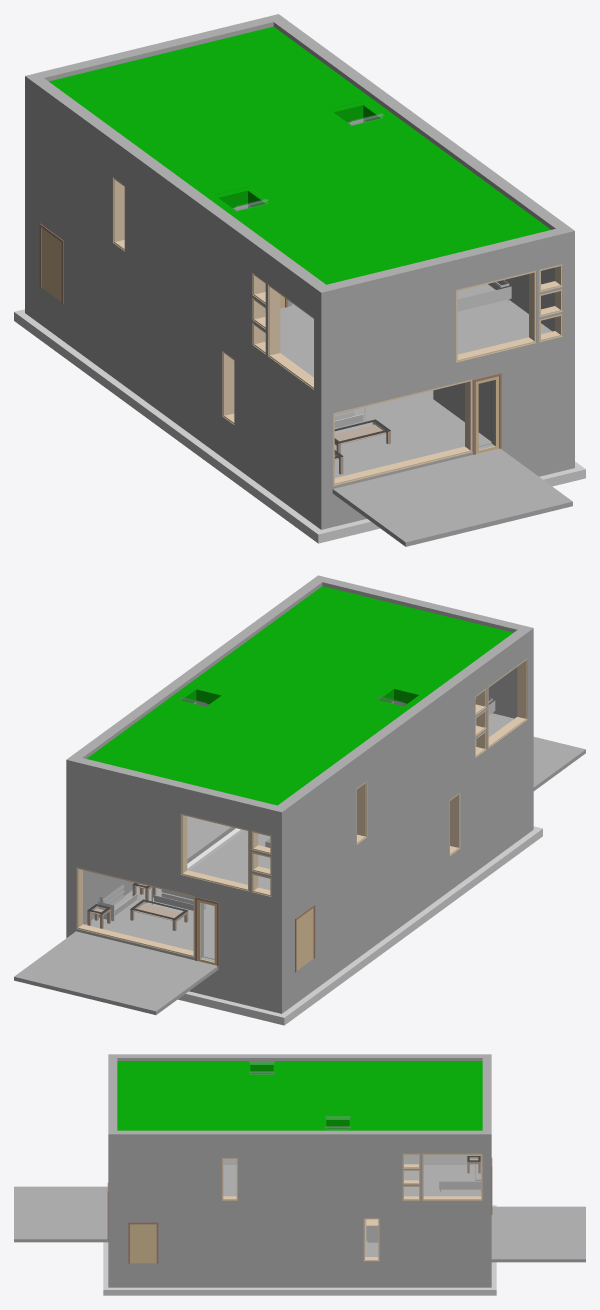
Rendered from duplex.gltf.
3 renders of one model, top to bottom at view 1: azimuth 30°, elevation 25°; view 2: azimuth 150°, elevation 25°; view 3: azimuth 270°, elevation 25°, orthographic. The views are drawn at different scales.
Visible parts, largest first — view 1: 3ThA22djr8AQQ9eQMA5s7I, 2O2Fr$t4X7Zf8NOew3FNhv, 2O2Fr$t4X7Zf8NOew3FLPP, 2O2Fr$t4X7Zf8NOew3FLOH, 1CZILmCaHETO8tf3SgGEXu, 2O2Fr$t4X7Zf8NOew3FNr2, 2O2Fr$t4X7Zf8NOew3FKE5, 0jf0rYHfX3RAB3bSIRjmr1, 2OBrcmyk58NupXoVOHUtxr, 0jf0rYHfX3RAB3bSIRjmoa, 0jf0rYHfX3RAB3bSIRjmpw, 0kF45Qs8L9PAM9kmb1lT5t (+17 smaller); view 2: 3ThA22djr8AQQ9eQMA5s7I, 2O2Fr$t4X7Zf8NOew3FNhv, 2O2Fr$t4X7Zf8NOew3FLPP, 2O2Fr$t4X7Zf8NOew3FLQD, 1CZILmCaHETO8tf3SgGEWh, 2O2Fr$t4X7Zf8NOew3FNtn, 2O2Fr$t4X7Zf8NOew3FKE5, 0jf0rYHfX3RAB3bSIRjmr1, 0jf0rYHfX3RAB3bSIRjmmy, 0kF45Qs8L9PAM9kmb1lT5t, 0jf0rYHfX3RAB3bSIRjmpw, 2OBrcmyk58NupXoVOHUtgP (+17 smaller); view 3: 3ThA22djr8AQQ9eQMA5s7I, 2O2Fr$t4X7Zf8NOew3FNqI, 2O2Fr$t4X7Zf8NOew3FLR9, 2O2Fr$t4X7Zf8NOew3FK9N, 0jf0rYHfX3RAB3bSIRjmpw, 1CZILmCaHETO8tf3SgGEWh, 1CZILmCaHETO8tf3SgGEXu, 0kF45Qs8L9PAM9kmb1lT5d, 0jf0rYHfX3RAB3bSIRjmr1, 2OBrcmyk58NupXoVOHUtDX, 1hOSvn6df7F8_7GcBWlRGQ, 0jf0rYHfX3RAB3bSIRjmmy (+6 smaller).
Boxes of the visible parts, left/top/right/bottom form: 3ThA22djr8AQQ9eQMA5s7I: left=49, top=26, right=550, bottom=284; 2O2Fr$t4X7Zf8NOew3FNhv: left=32, top=187, right=314, bottom=486; 2O2Fr$t4X7Zf8NOew3FLPP: left=25, top=94, right=321, bottom=398; 2O2Fr$t4X7Zf8NOew3FLOH: left=321, top=249, right=574, bottom=398; 1CZILmCaHETO8tf3SgGEXu: left=332, top=448, right=572, bottom=546; 2O2Fr$t4X7Zf8NOew3FNr2: left=314, top=340, right=562, bottom=491; 2O2Fr$t4X7Zf8NOew3FKE5: left=32, top=281, right=314, bottom=524; 0jf0rYHfX3RAB3bSIRjmr1: left=32, top=78, right=325, bottom=305; 2OBrcmyk58NupXoVOHUtxr: left=334, top=390, right=491, bottom=477; 0jf0rYHfX3RAB3bSIRjmoa: left=314, top=229, right=562, bottom=310; 0jf0rYHfX3RAB3bSIRjmpw: left=273, top=19, right=574, bottom=251; 0kF45Qs8L9PAM9kmb1lT5t: left=14, top=309, right=309, bottom=532; 3ThA22djr8AQQ9eQMA5s7I: left=86, top=586, right=513, bottom=805; 2O2Fr$t4X7Zf8NOew3FNhv: left=287, top=722, right=527, bottom=977; 2O2Fr$t4X7Zf8NOew3FLPP: left=282, top=644, right=533, bottom=901; 2O2Fr$t4X7Zf8NOew3FLQD: left=66, top=775, right=281, bottom=902; 1CZILmCaHETO8tf3SgGEWh: left=14, top=931, right=218, bottom=1014; 2O2Fr$t4X7Zf8NOew3FNtn: left=66, top=850, right=287, bottom=981; 2O2Fr$t4X7Zf8NOew3FKE5: left=287, top=802, right=527, bottom=1009; 0jf0rYHfX3RAB3bSIRjmr1: left=278, top=630, right=527, bottom=823; 0jf0rYHfX3RAB3bSIRjmmy: left=66, top=755, right=287, bottom=827; 0kF45Qs8L9PAM9kmb1lT5t: left=262, top=836, right=530, bottom=1025; 0jf0rYHfX3RAB3bSIRjmpw: left=72, top=575, right=327, bottom=758; 2OBrcmyk58NupXoVOHUtgP: left=85, top=887, right=214, bottom=959; 3ThA22djr8AQQ9eQMA5s7I: left=117, top=1061, right=482, bottom=1130; 2O2Fr$t4X7Zf8NOew3FNqI: left=108, top=1202, right=482, bottom=1263; 2O2Fr$t4X7Zf8NOew3FLR9: left=108, top=1146, right=491, bottom=1202; 2O2Fr$t4X7Zf8NOew3FK9N: left=108, top=1263, right=482, bottom=1287; 0jf0rYHfX3RAB3bSIRjmpw: left=108, top=1130, right=482, bottom=1146; 1CZILmCaHETO8tf3SgGEWh: left=491, top=1206, right=585, bottom=1262; 1CZILmCaHETO8tf3SgGEXu: left=14, top=1186, right=108, bottom=1242; 0kF45Qs8L9PAM9kmb1lT5d: left=103, top=1281, right=496, bottom=1295; 0jf0rYHfX3RAB3bSIRjmr1: left=117, top=1054, right=482, bottom=1060; 2OBrcmyk58NupXoVOHUtDX: left=404, top=1165, right=481, bottom=1196; 1hOSvn6df7F8_7GcBWlRGQ: left=128, top=1222, right=158, bottom=1263; 0jf0rYHfX3RAB3bSIRjmmy: left=482, top=1054, right=491, bottom=1146.
Size of what is drawn, in the model's own units: 9.28 by 8.18 by 26.57.
